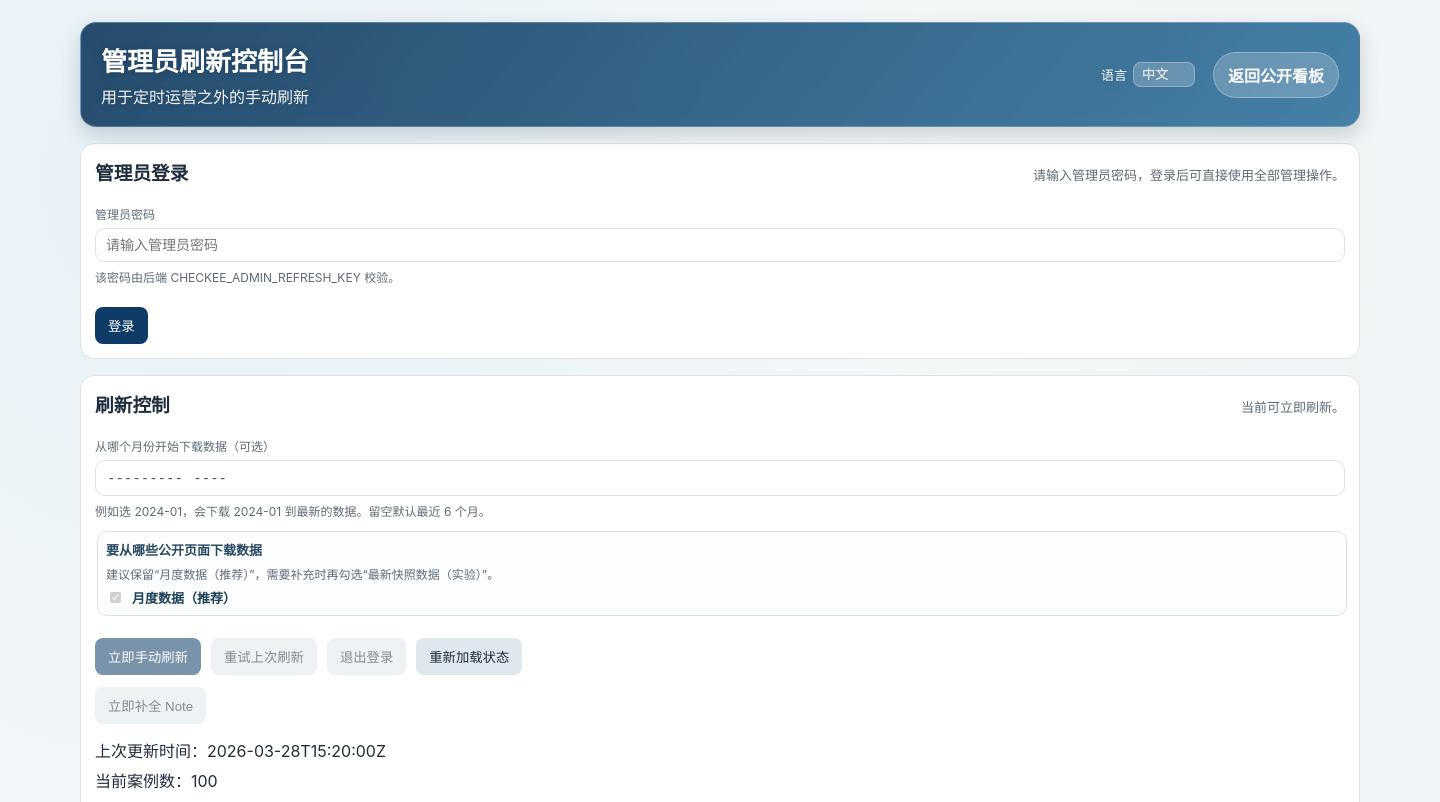
Test: AdminPage › 一级学科仅匹配时应保留 Unspecified 二级可选值
Type "Zcb070920!" into the password field with placeholder "请输入管理员密码" at (720, 245), box [95, 228, 1345, 262]
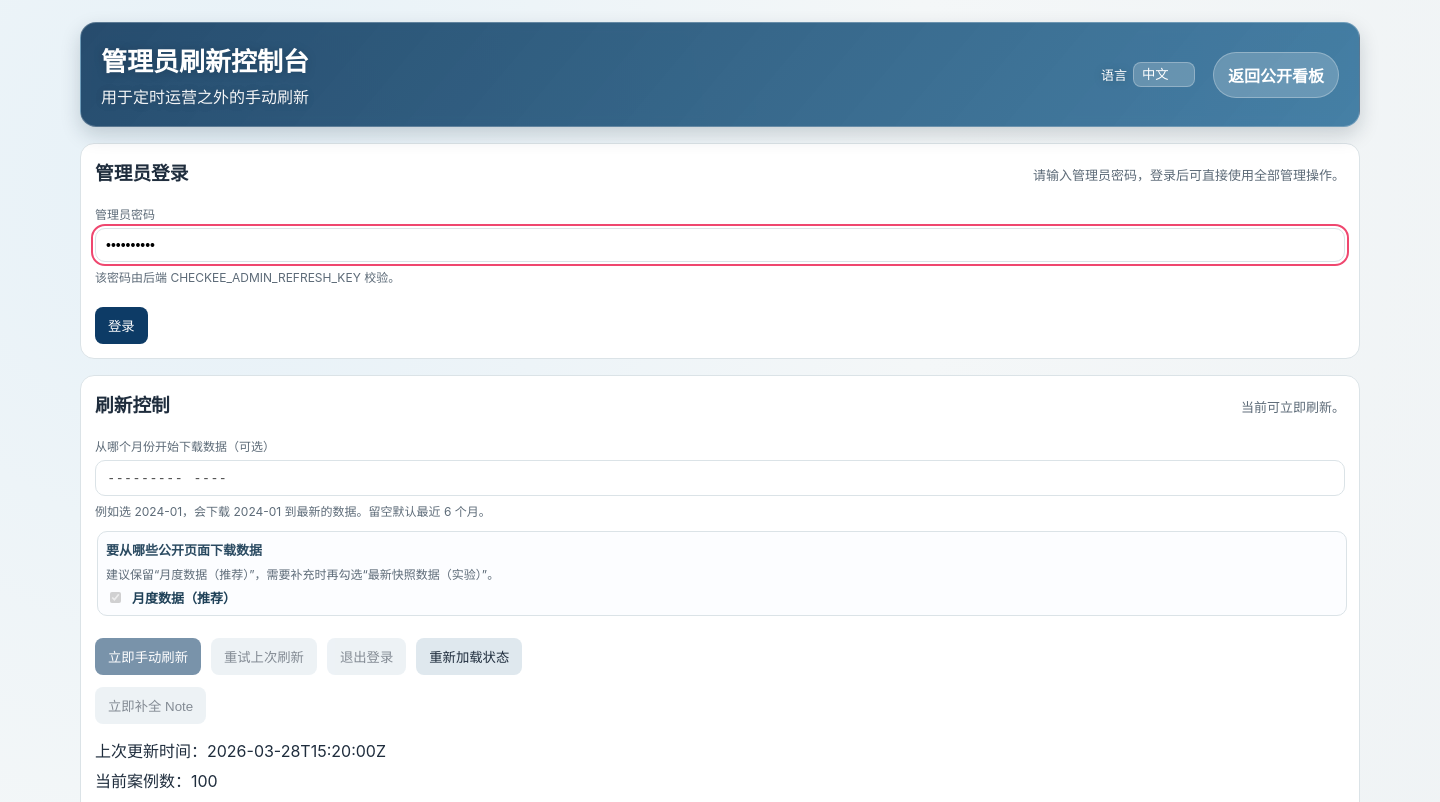
Click the button "登录" at (121, 326), box [95, 307, 148, 344]
(page scrolled)
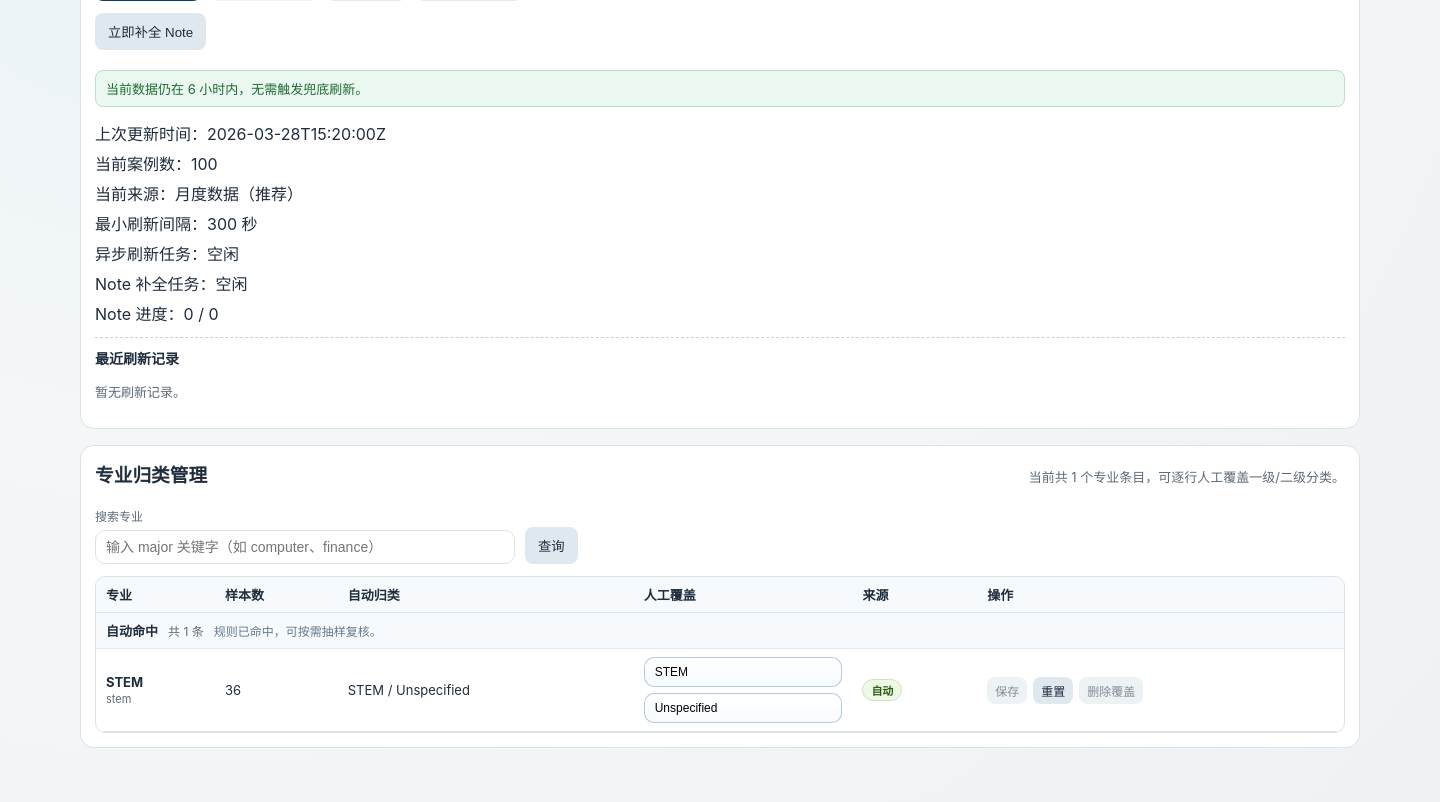
Check: the text "STEM" is shown, box [106, 674, 143, 690]
Check: the 2nd dropdown shows "Unspecified", box [644, 693, 842, 723]
